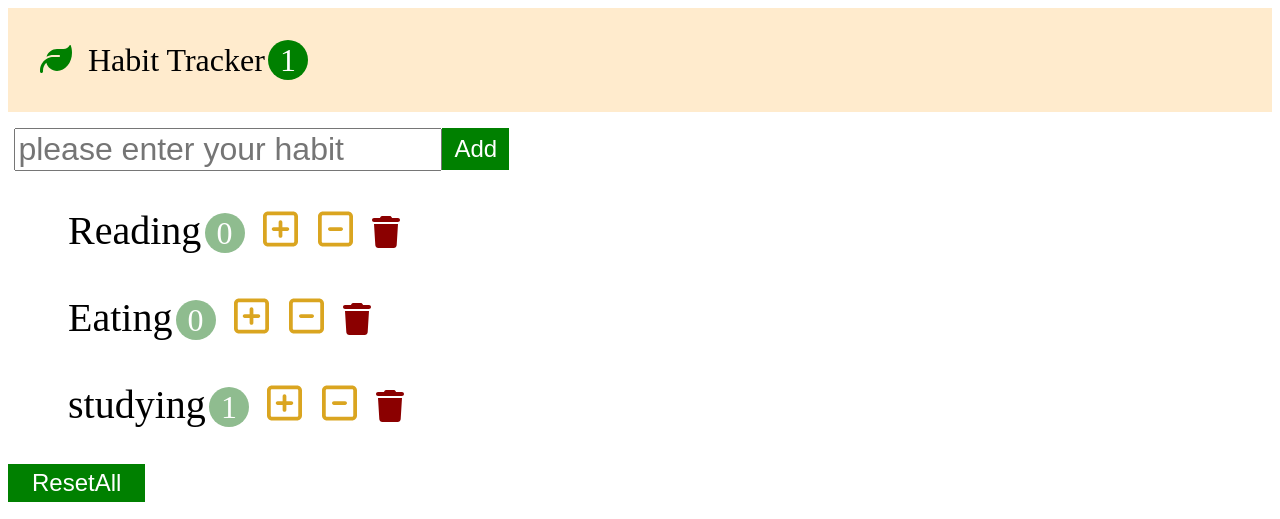
App › App Component › delete an item
What coordinates should you click on to do the following:
click the button titled "delete" in the row of "Reading"
I would click on:
 (386, 234)
Its box is 366,214 -> 406,253.
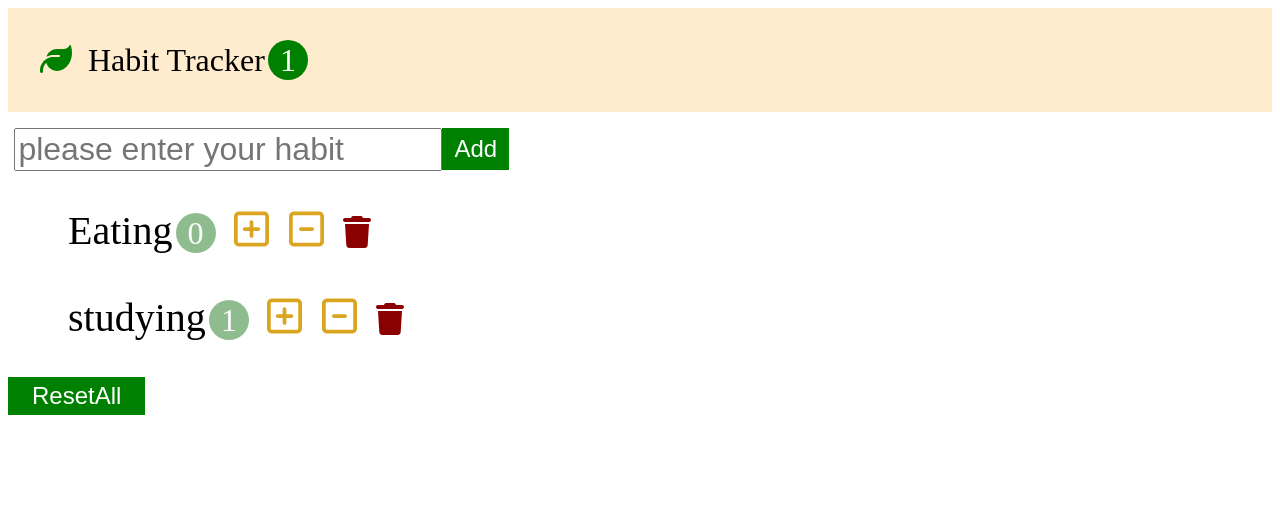
Check: the text titled "habit-name" no longer shows "Reading"
